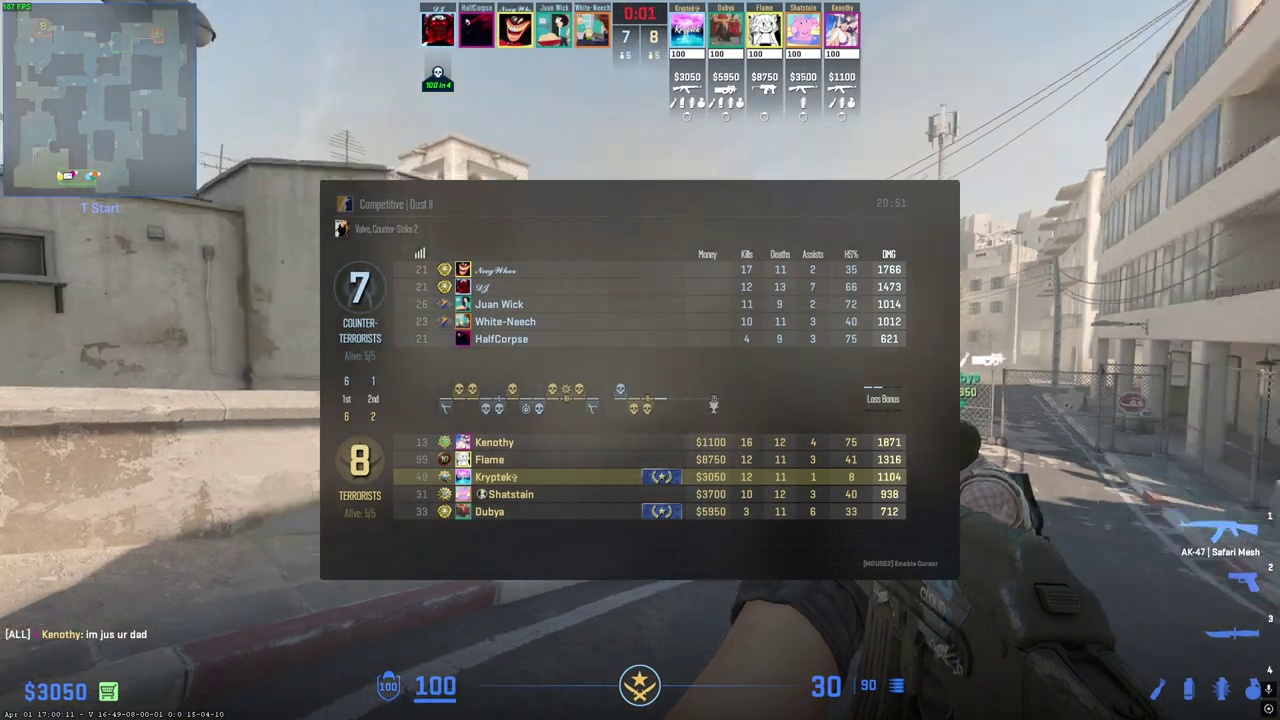Terrorist: (954, 421, 1037, 532)
